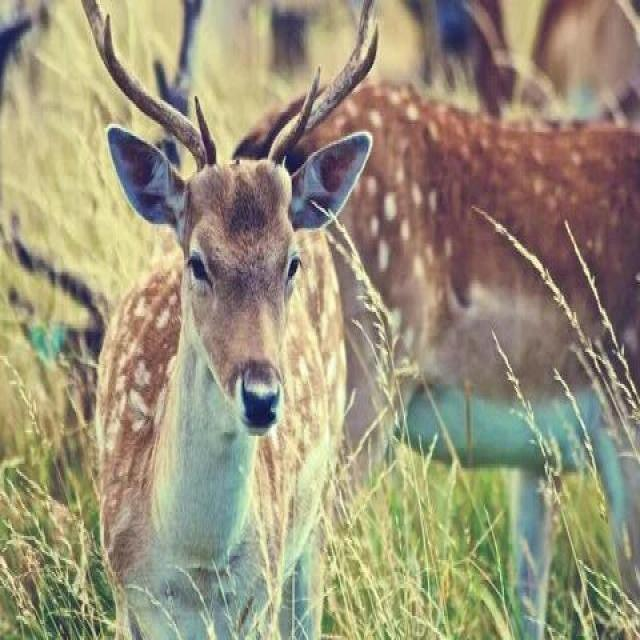deer: (108, 35, 411, 634)
